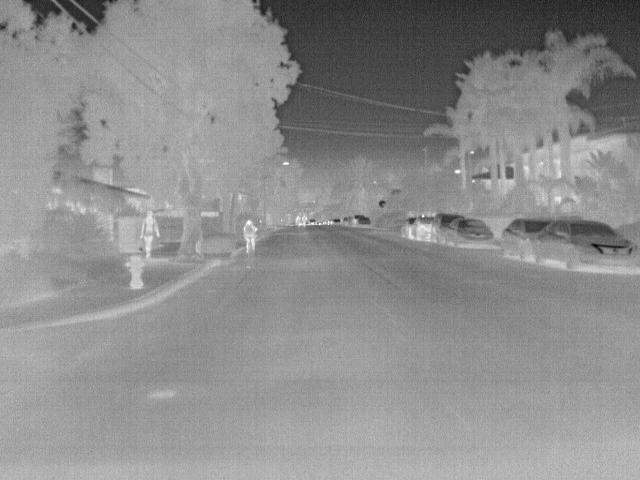car: (528, 217, 637, 273), (498, 219, 549, 262), (444, 218, 493, 248), (431, 213, 460, 243), (407, 215, 434, 240), (401, 218, 418, 236), (352, 213, 366, 226), (356, 218, 372, 228), (331, 217, 342, 226), (309, 217, 318, 226)
person: (141, 211, 161, 258), (243, 218, 258, 252), (301, 212, 309, 229), (294, 213, 303, 228)
